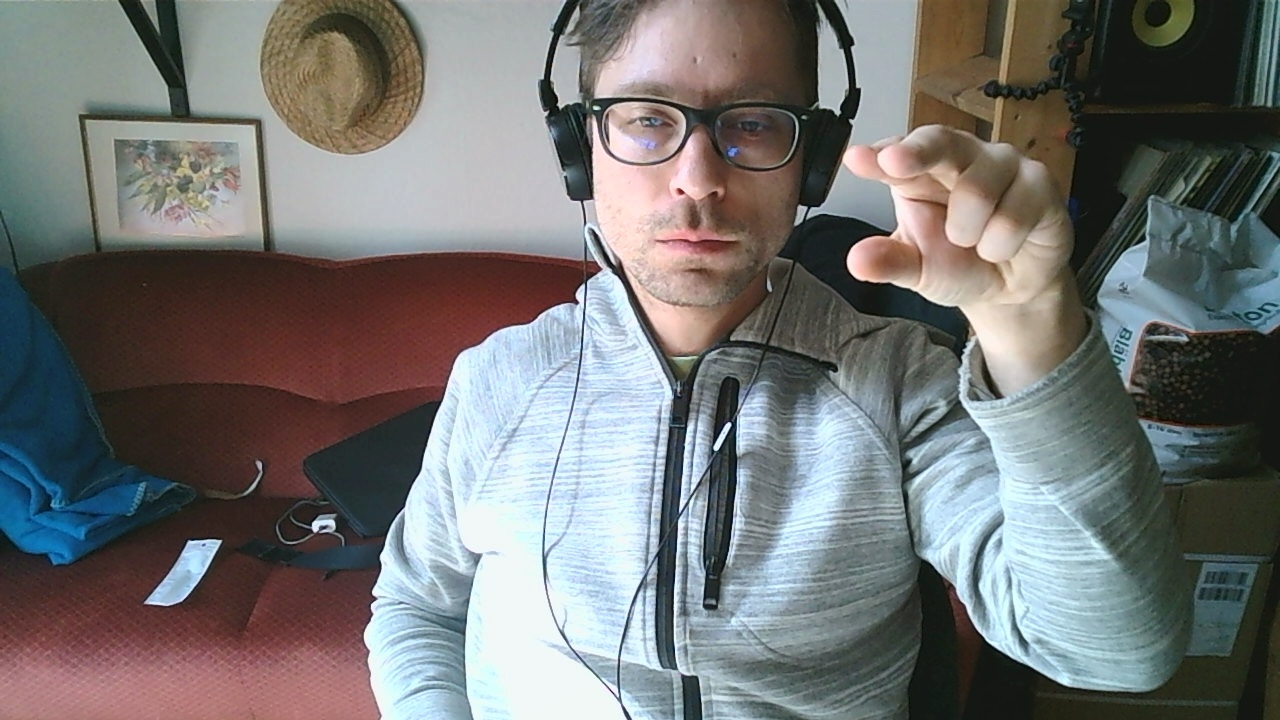no: (838, 126, 1078, 299)
